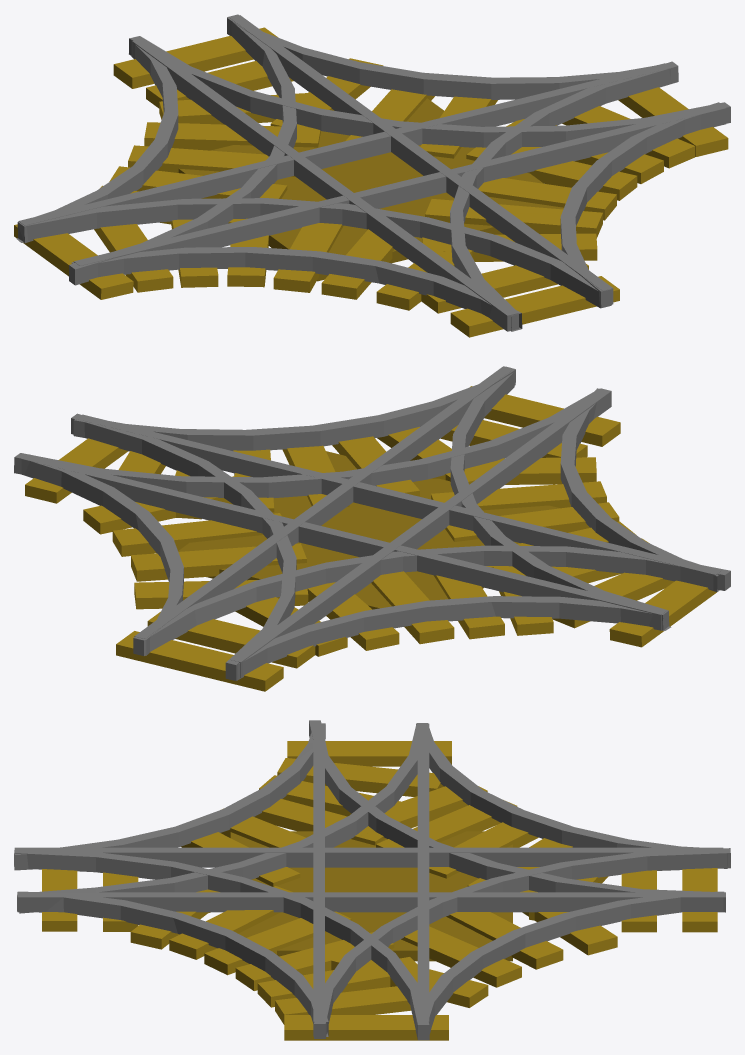
Rendered from Four Way Intersection.fbx.
The picture shows the model from 3 angles, top to bottom: view 1: azimuth 30°, elevation 25°; view 2: azimuth 150°, elevation 25°; view 3: azimuth 270°, elevation 25°; orthographic projection. The views are drawn at different scales.
Visible parts, largest first — view 1: Circle.002, Track Left.005, Track Left.004, Circle.001, Track Left, Circle.000, Cube.034, Track Left.001, Circle.004, Circle.003, Circle.007, Circle.005 (+26 smaller); view 2: Track Left.004, Circle.007, Track Left.005, Circle.006, Cube.034, Track Left, Circle.003, Track Left.001, Circle.005, Circle.000, Circle.002, Circle.004 (+25 smaller); view 3: Track Left.001, Track Left, Cube.034, Circle.000, Circle.003, Circle.005, Circle.004, Circle.002, Circle.007, Circle.001, Circle.006, Track Left.004 (+25 smaller).
Part boxes in pixels (x1,y1,x2,y2): Circle.002: [16, 198, 611, 308]; Track Left.005: [73, 103, 726, 265]; Track Left.004: [18, 63, 670, 225]; Circle.001: [71, 247, 522, 331]; Track Left: [132, 39, 517, 331]; Circle.000: [129, 36, 730, 147]; Cube.034: [178, 98, 563, 281]; Track Left.001: [229, 15, 613, 304]; Circle.004: [227, 15, 670, 99]; Circle.003: [450, 61, 678, 328]; Circle.007: [69, 14, 296, 285]; Circle.005: [560, 102, 719, 307]; Track Left.004: [21, 454, 666, 630]; Circle.007: [133, 545, 730, 655]; Track Left.005: [76, 414, 721, 589]; Circle.006: [237, 596, 669, 680]; Cube.034: [178, 451, 559, 609]; Track Left: [230, 388, 611, 677]; Circle.003: [14, 388, 599, 498]; Track Left.001: [134, 366, 513, 638]; Circle.005: [73, 366, 515, 450]; Circle.000: [71, 413, 296, 680]; Circle.002: [450, 372, 671, 630]; Circle.004: [24, 454, 183, 655]; Track Left.001: [17, 892, 723, 912]; Track Left: [14, 847, 723, 867]; Cube.034: [230, 831, 512, 961]; Circle.000: [314, 848, 730, 1038]; Circle.003: [15, 852, 429, 1040]; Circle.005: [17, 891, 328, 1036]; Circle.004: [416, 891, 724, 1033]; Circle.002: [19, 723, 428, 913]; Circle.007: [309, 720, 725, 912]; Circle.001: [14, 723, 325, 870]; Circle.006: [416, 724, 727, 868]; Track Left.004: [417, 723, 429, 1023].
Size of the model in its own units: 1534 by 68.62 by 1525.
